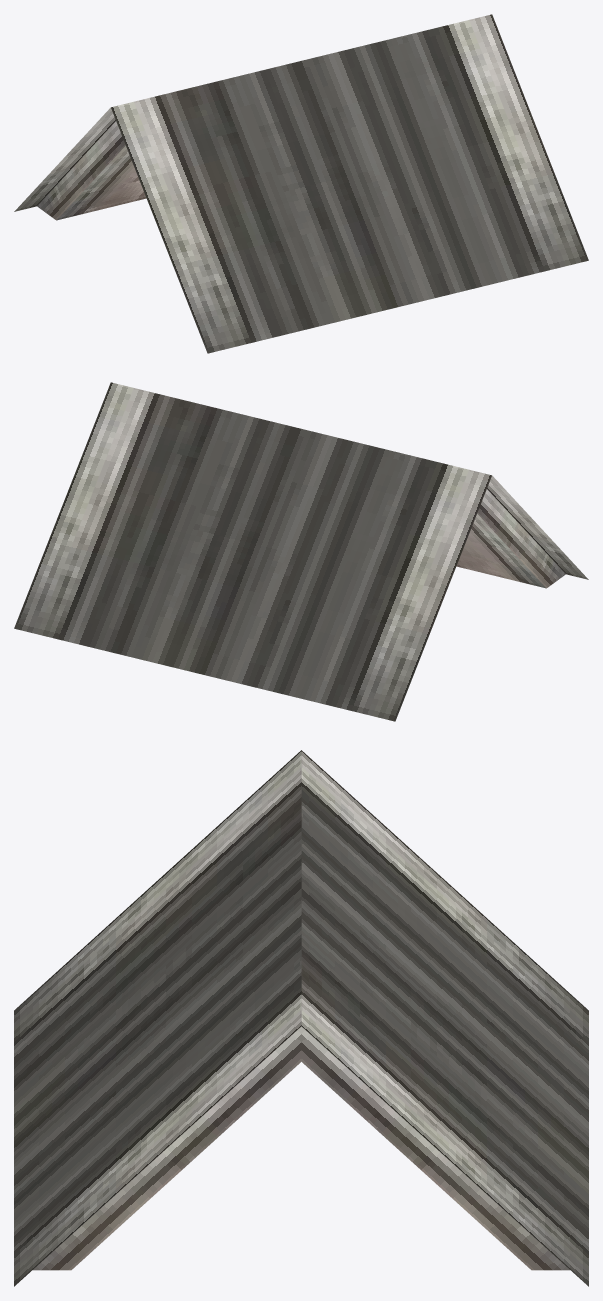
The model's file is roof-metal-type-b.glb.
3 views of the same model, one above another, from view 1: azimuth 30°, elevation 25°; view 2: azimuth 150°, elevation 25°; view 3: azimuth 270°, elevation 25° (orthographic). The views are drawn at different scales.
Parts seen in each view (by area): view 1: roof-metal-type-b; view 2: roof-metal-type-b; view 3: roof-metal-type-b.
Part boxes in pixels (x1,y1,x2,y2): roof-metal-type-b: (14, 14, 588, 353); roof-metal-type-b: (14, 382, 588, 721); roof-metal-type-b: (14, 750, 588, 1286).
Size of the model in its own units: 1.14 by 0.5001 by 1.
3 materials, 3 textured.
